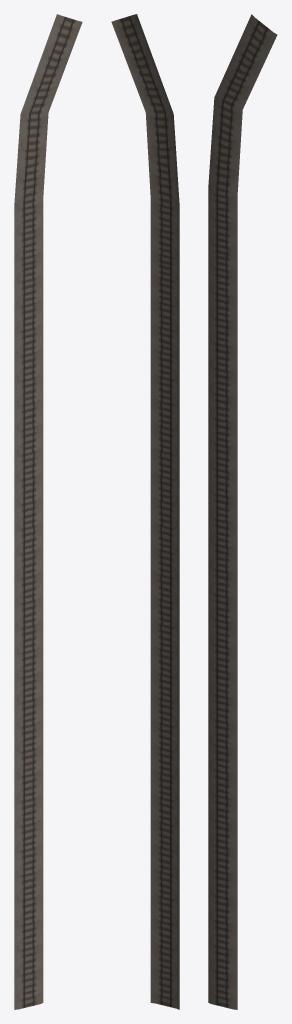
Rendered from railway_track.glb.
The picture shows the model from 3 angles, left to right: view 1: azimuth 30°, elevation 25°; view 2: azimuth 150°, elevation 25°; view 3: azimuth 330°, elevation 25°; orthographic projection.
Visible parts, largest first — view 1: train_track; view 2: train_track; view 3: train_track.
Part boxes in pixels (x1,y1,x2,y2): train_track: [14, 14, 82, 1009]; train_track: [111, 14, 179, 1009]; train_track: [208, 14, 277, 1009].
Size of the model in its own units: 13.79 by 190 by 0.2388.
1 material, 1 textured.
